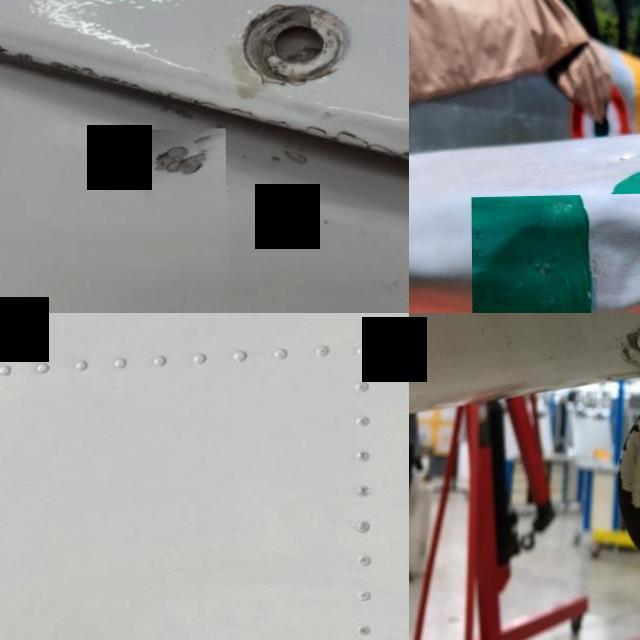Crack: (225, 0, 378, 110), (0, 0, 143, 111), (144, 130, 226, 210)
Dent: (471, 194, 640, 313)
